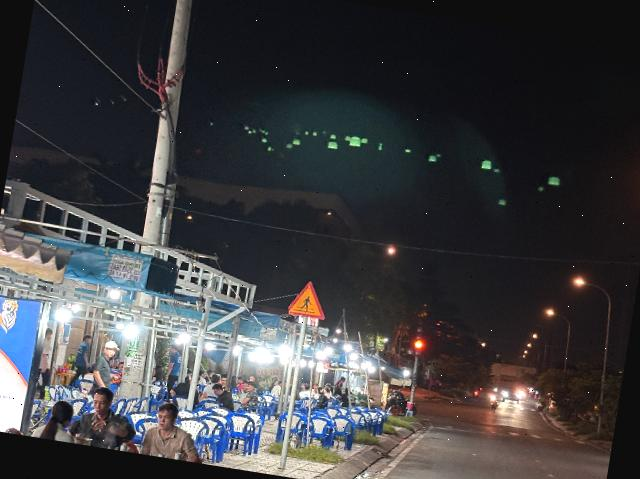duong-nguoi-di-bo-cat-ngang: (286, 277, 330, 320)
